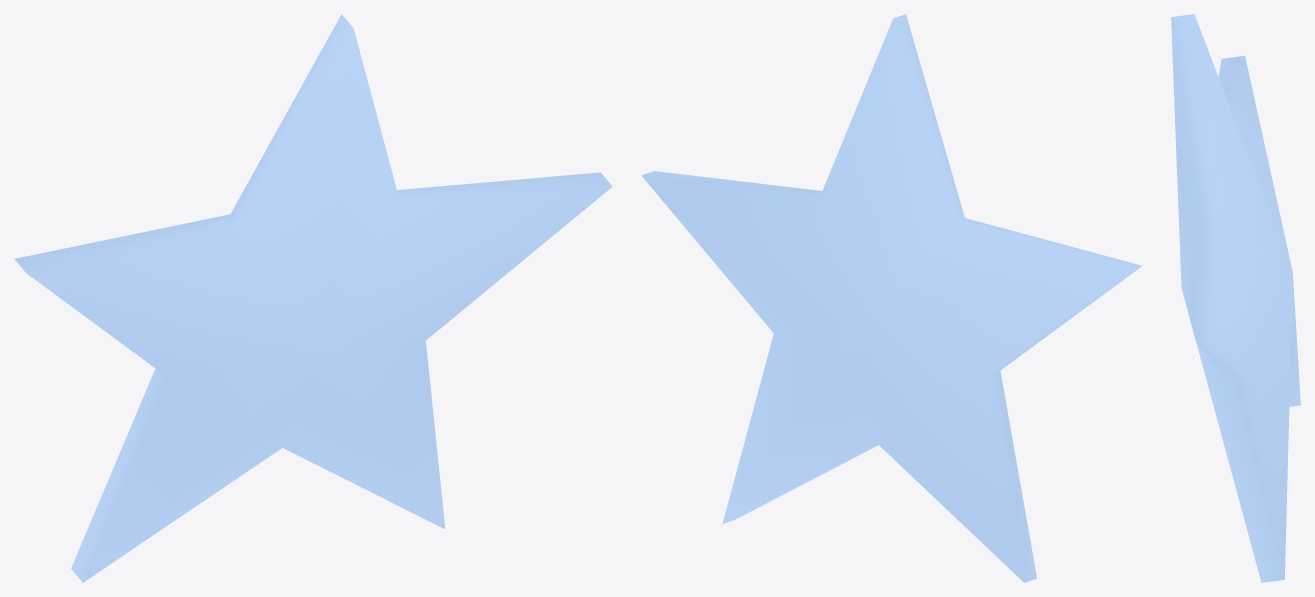
Rendered from white star.glb.
3 renders of one model, left to right at view 1: azimuth 30°, elevation 25°; view 2: azimuth 150°, elevation 25°; view 3: azimuth 270°, elevation 25°, orthographic. The views are drawn at different scales.
Parts seen in each view (by area): view 1: Circle; view 2: Circle; view 3: Circle.
Boxes of the visible parts, bbox=[...] form: Circle: bbox=[14, 14, 612, 582]; Circle: bbox=[641, 14, 1142, 582]; Circle: bbox=[1171, 14, 1300, 582].
Bounding box in the file's own units: 1.9 × 1.83 × 0.4241.
